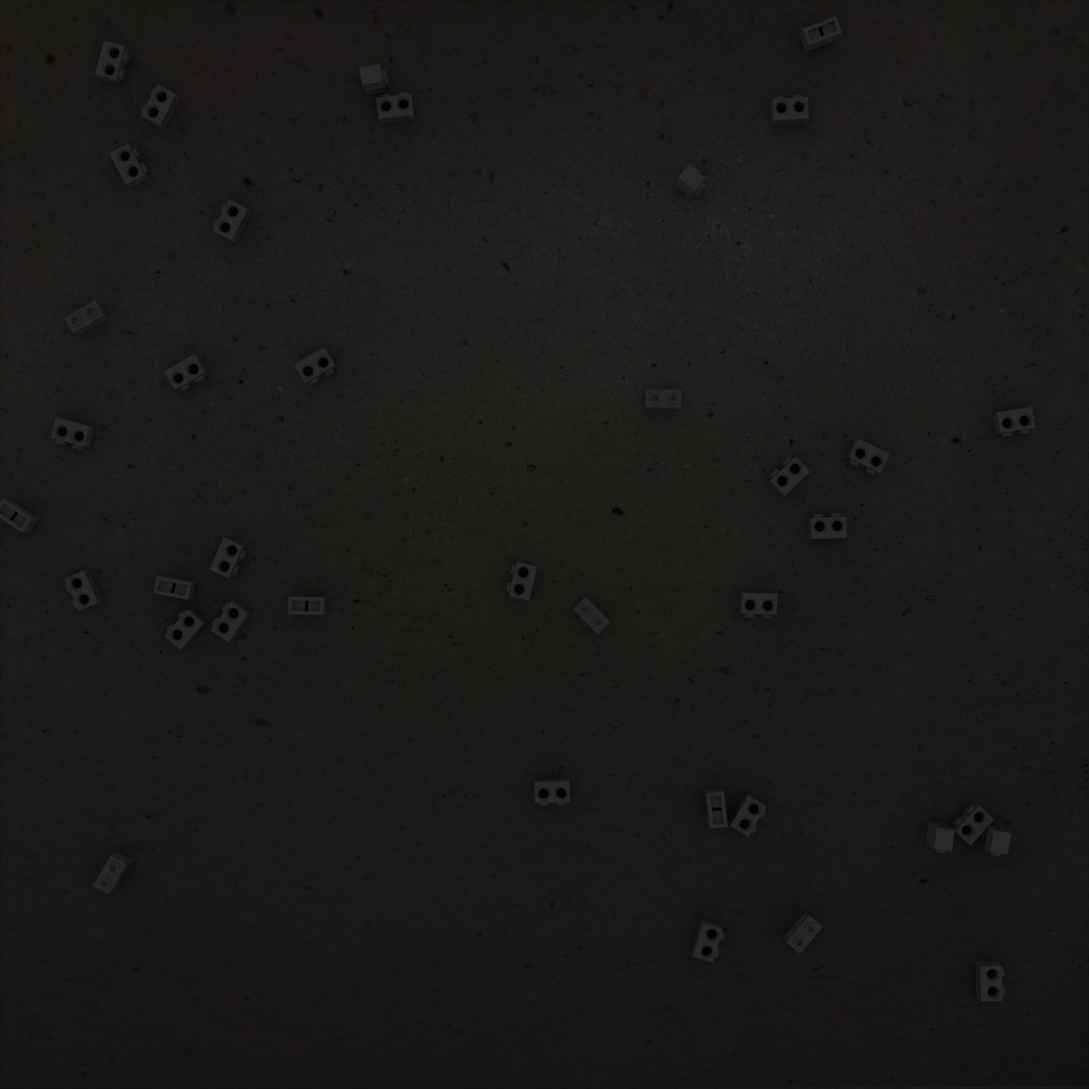lego: (951, 802, 995, 846), (109, 144, 149, 189), (141, 84, 180, 130), (164, 609, 207, 650), (783, 910, 823, 954), (93, 851, 132, 895), (728, 793, 767, 837), (164, 354, 209, 392), (213, 199, 251, 244), (211, 601, 252, 642), (768, 456, 810, 496), (294, 347, 337, 385), (846, 438, 890, 475), (64, 300, 109, 336), (64, 570, 103, 611), (95, 40, 130, 85), (209, 537, 247, 578), (799, 16, 842, 52), (691, 919, 725, 963), (50, 417, 95, 450), (573, 596, 610, 634), (0, 498, 39, 533), (992, 407, 1035, 437), (376, 92, 415, 124), (975, 961, 1005, 1002), (506, 562, 537, 601), (770, 95, 809, 125), (675, 164, 706, 199), (153, 575, 196, 600), (980, 824, 1012, 856), (808, 513, 847, 539), (534, 778, 570, 806), (739, 592, 777, 618), (704, 788, 728, 829), (925, 821, 955, 853), (359, 64, 389, 96), (288, 596, 327, 615), (644, 389, 681, 409)
